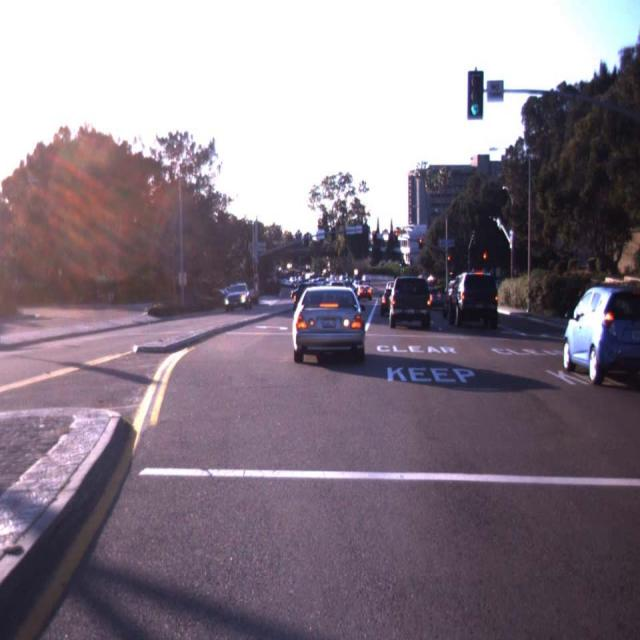yesil: (466, 69, 484, 119)
